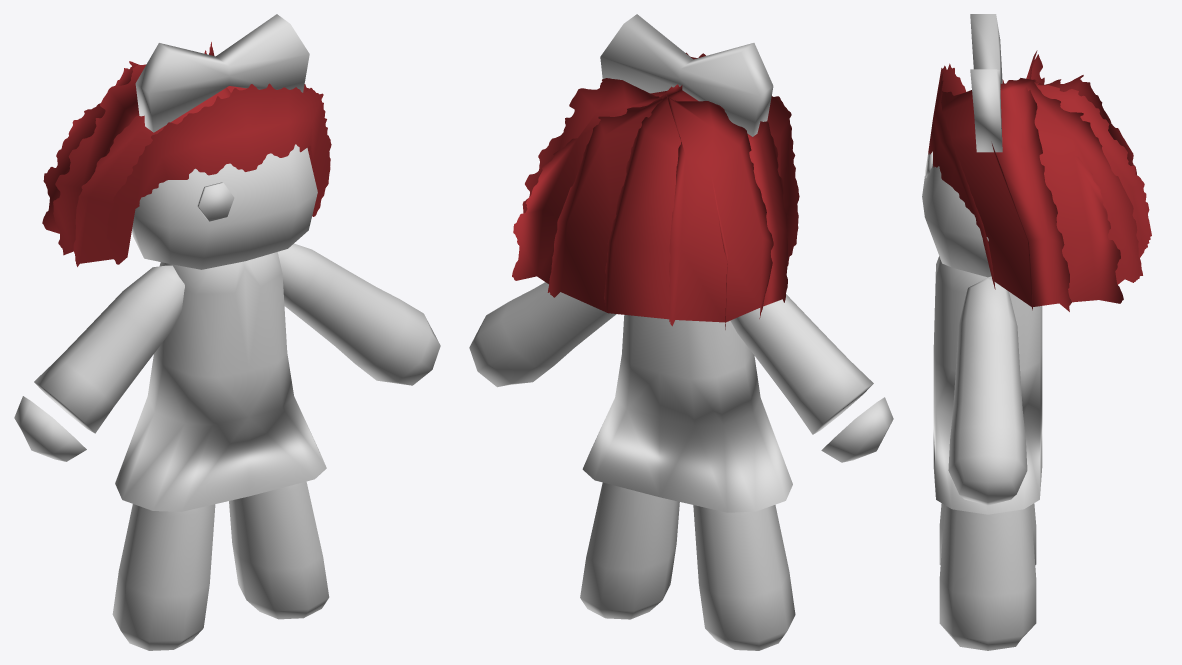
Rendered from Muñeca2.fbx.
3 views of the same model, side by side, from view 1: azimuth 30°, elevation 25°; view 2: azimuth 150°, elevation 25°; view 3: azimuth 270°, elevation 25° (orthographic). The views are drawn at different scales.
Visible parts, largest first — view 1: Cube.003; view 2: Cube.003; view 3: Cube.003.
Part boxes in pixels (x1,y1,x2,y2): Cube.003: (14,14,440,650); Cube.003: (469,14,893,650); Cube.003: (922,14,1151,650).
Bounding box in the file's own units: 6.41 × 8.76 × 3.42.
2 materials, 1 textured.
